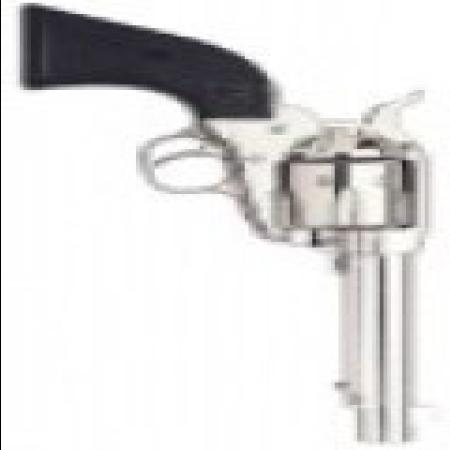Pistol: (26, 3, 442, 441)
